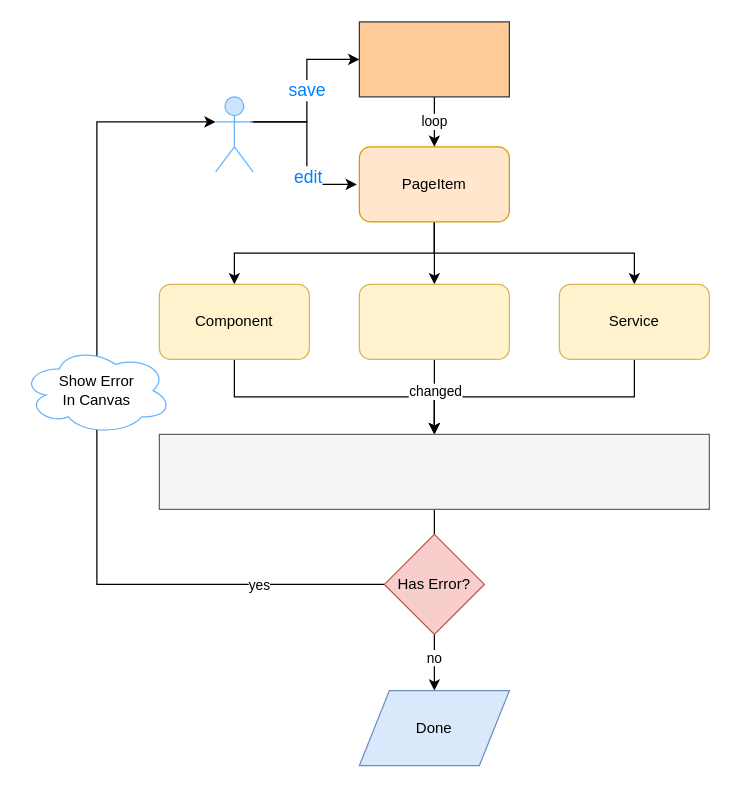
This 731x788 diagram has some shape labels left out. The centre of each missing label's shape, as x and y in pixels:
Field: pixel 433 321
PageSuite: pixel 433 59
Validator: pixel 433 471
